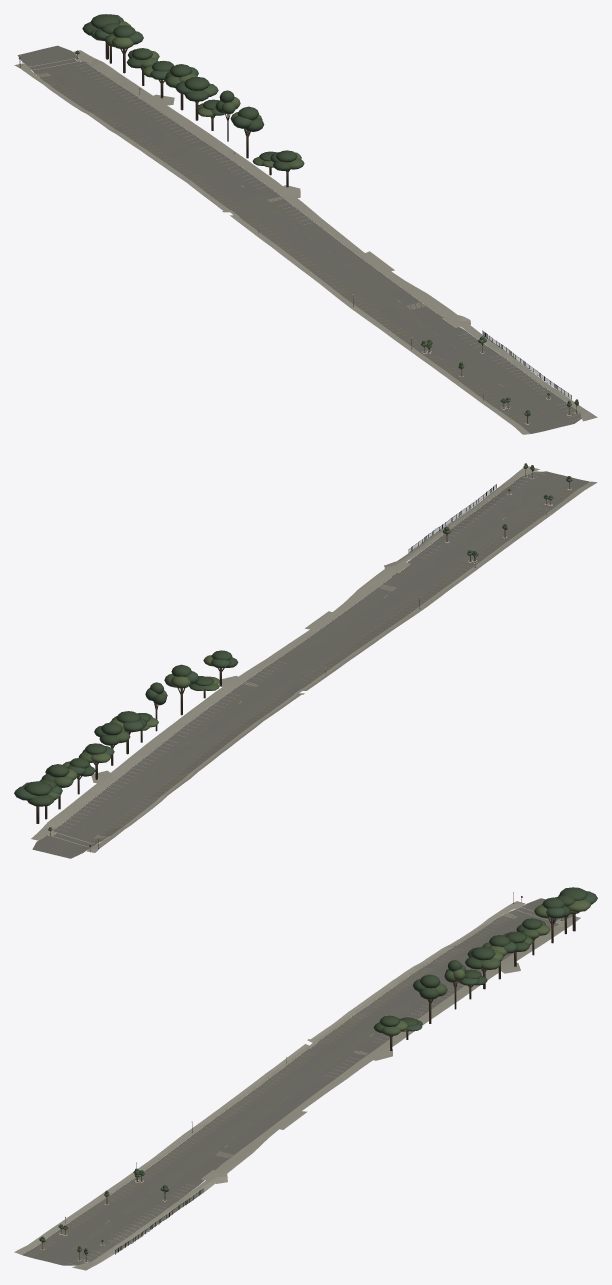
The model's file is site.glb.
3 renders of one model, top to bottom at view 1: azimuth 30°, elevation 25°; view 2: azimuth 150°, elevation 25°; view 3: azimuth 330°, elevation 25°, orthographic. The views are drawn at different scales.
Parts seen in each view (by area): view 1: university-south-axis-paving, university-south-axis-planting, university-south-axis-markings; view 2: university-south-axis-paving, university-south-axis-planting, university-south-axis-markings; view 3: university-south-axis-paving, university-south-axis-planting, university-south-axis-markings.
Boxes of the visible parts, x1,y1,x2,y2 form: university-south-axis-paving: (14,45,597,434); university-south-axis-planting: (75,14,578,423); university-south-axis-markings: (29,58,579,424); university-south-axis-paving: (31,466,597,858); university-south-axis-planting: (14,463,572,834); university-south-axis-markings: (51,471,573,847); university-south-axis-paving: (14,898,580,1270); university-south-axis-planting: (39,887,597,1261); university-south-axis-markings: (38,907,560,1265).
Size of the model in its own units: 39.36 by 21.78 by 346.
